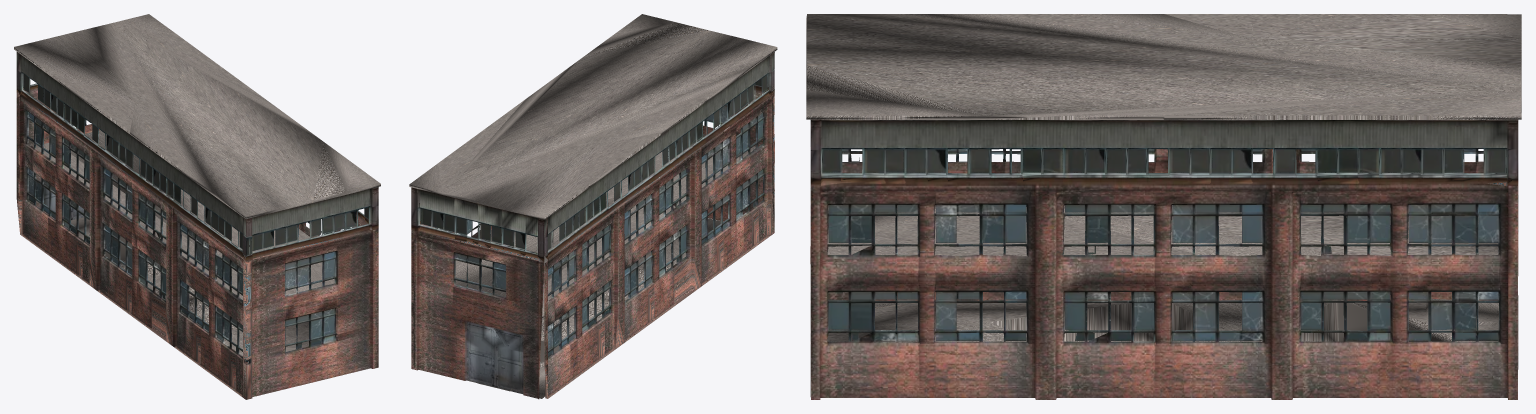
Rendered from warehouse.glb.
The picture shows the model from 3 angles, left to right: view 1: azimuth 30°, elevation 25°; view 2: azimuth 150°, elevation 25°; view 3: azimuth 270°, elevation 25°; orthographic projection. The views are drawn at different scales.
Visible parts, largest first — view 1: building _building _0, building floor_building floor_0, building windows_building windows_0; view 2: building _building _0, building floor_building floor_0, building windows_building windows_0; view 3: building _building _0, building floor_building floor_0, building windows_building windows_0.
Boxes of the visible parts, x1,y1,x2,y2 form: building _building _0: [16, 52, 378, 399]; building floor_building floor_0: [14, 14, 380, 356]; building windows_building windows_0: [24, 74, 368, 351]; building _building _0: [411, 52, 774, 399]; building floor_building floor_0: [409, 14, 777, 398]; building windows_building windows_0: [420, 75, 767, 357]; building _building _0: [810, 119, 1518, 399]; building floor_building floor_0: [806, 14, 1521, 341]; building windows_building windows_0: [822, 148, 1505, 340].
Size of the model in its own units: 1161 by 1517 by 3451.
3 materials, 3 textured.
